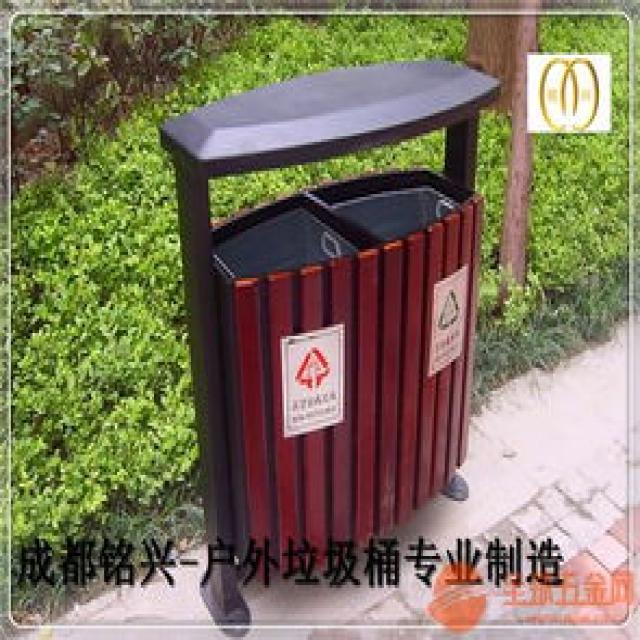garbage_bin: (154, 55, 499, 637)
